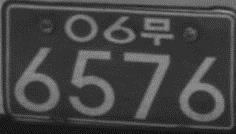0: (64, 13, 98, 43)
5: (67, 49, 115, 117)
6: (12, 46, 60, 113), (177, 56, 225, 122), (103, 14, 136, 44)
7: (122, 51, 170, 119)
무: (140, 16, 174, 46)
